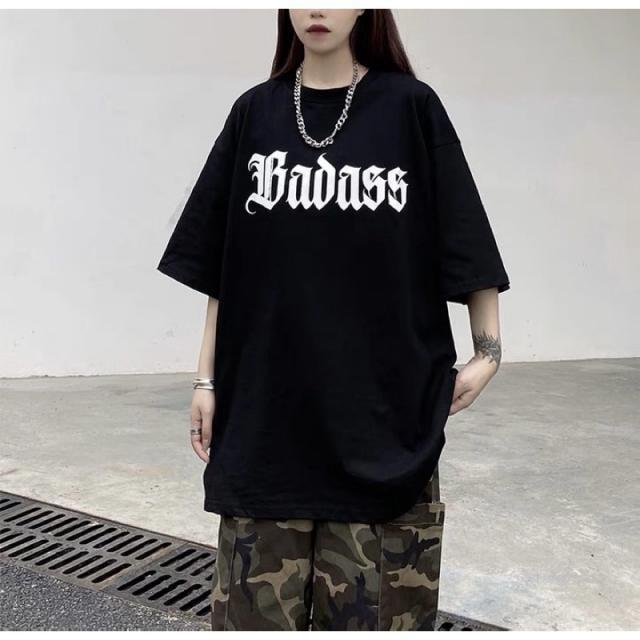shirt: (152, 61, 510, 524)
